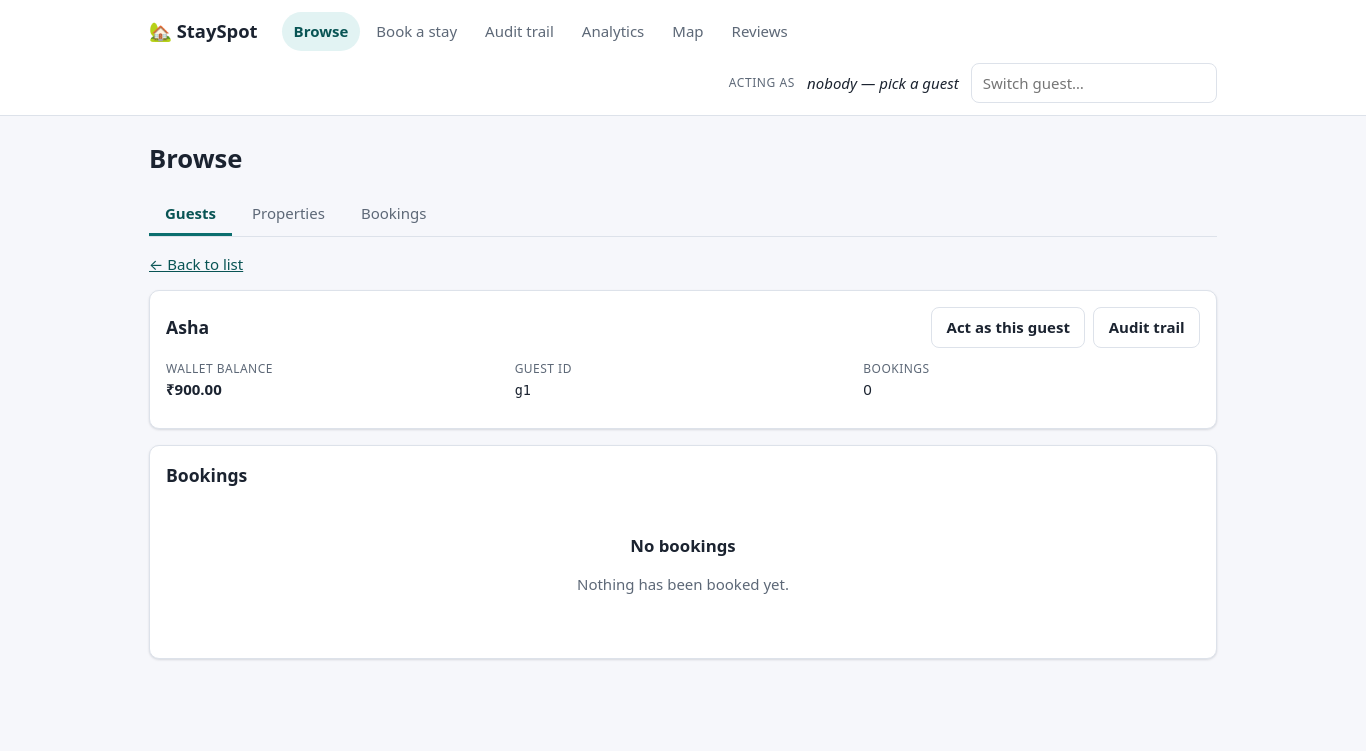
Test: Browse › 'Act as this guest' sets the actor and opens the booking screen
Click the button "Act as this guest" at (1008, 328), box [931, 307, 1085, 348]
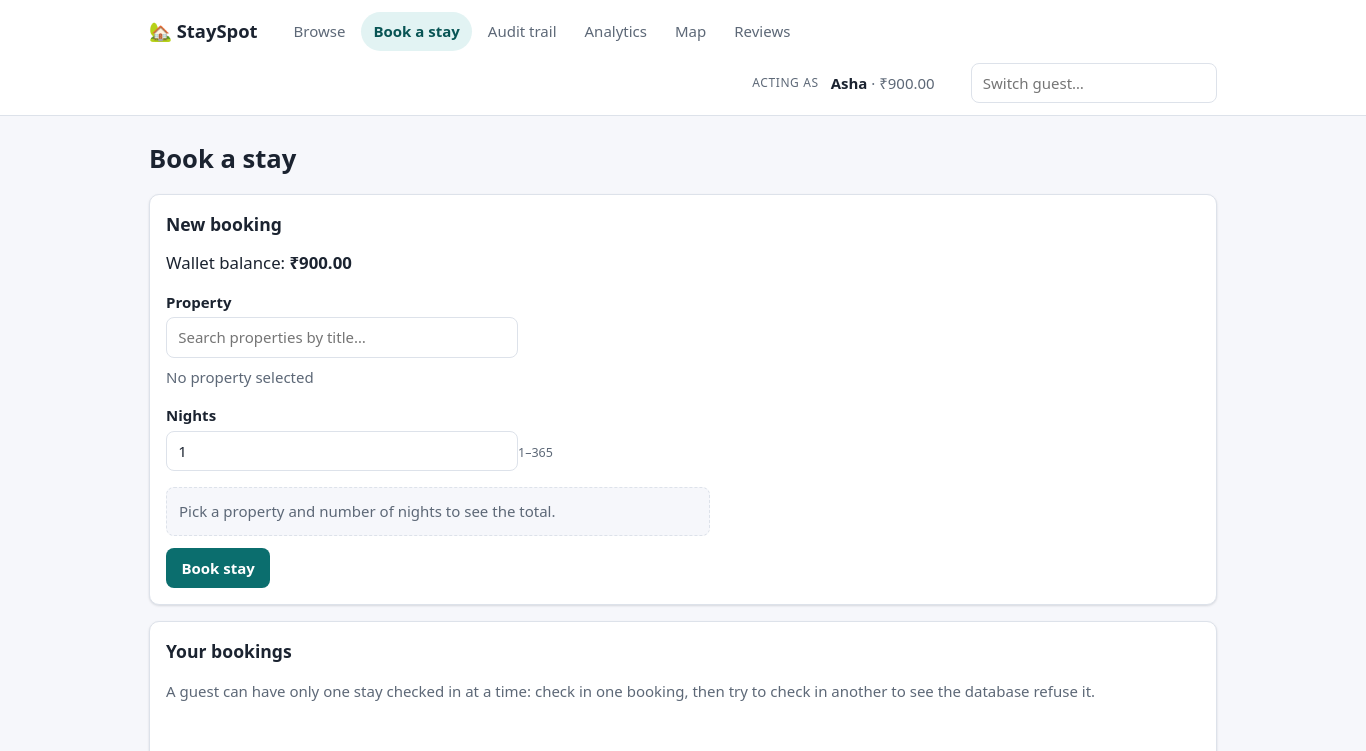
Expected: the text "Asha" is shown, [831, 72, 867, 92]
Expected: the heading "Book a stay" is shown, [149, 141, 296, 176]
